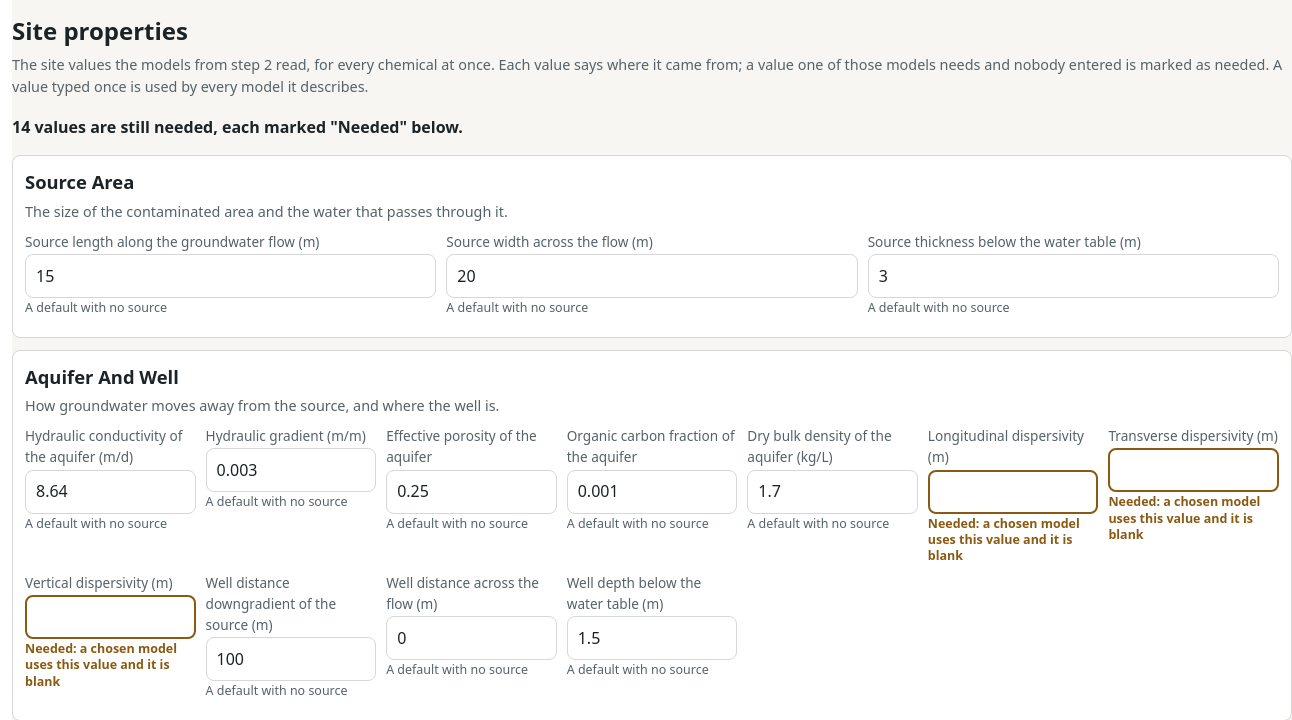
Test: PropertiesStep › marks a value a chosen model needs but nobody entered, and counts what is left
Expected: the text "Needed: a chosen model uses this value and it is blank" below "Longitudinal dispersivity (m)" is shown, [928,514,1080,564]
Step 1. Type "10" into the field labelled "Longitudinal dispersivity (m)" → (1013, 492), box [928,470,1098,514]
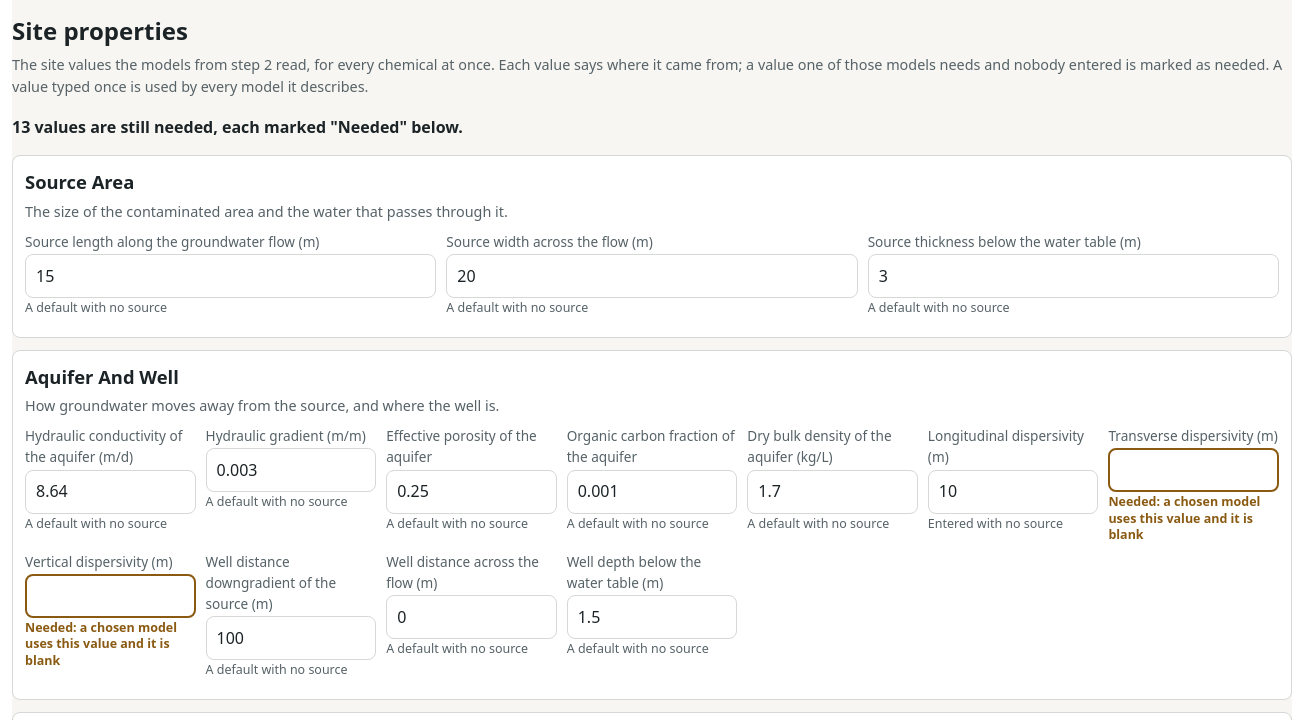
Expected: the text "Entered with no source" is shown, [928,514,1063,532]
